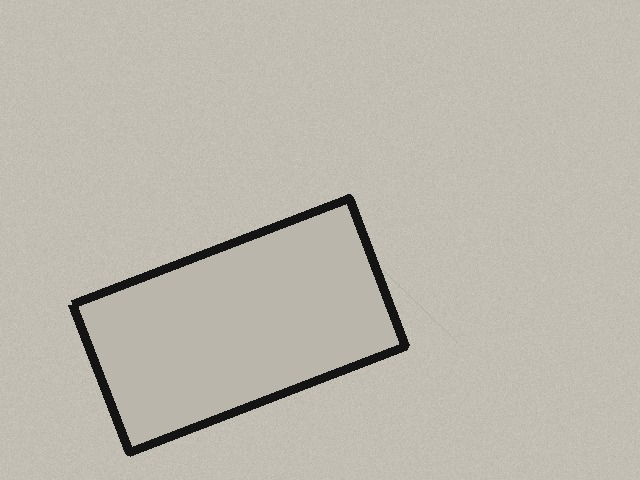parking_area: (72, 198, 405, 452)
